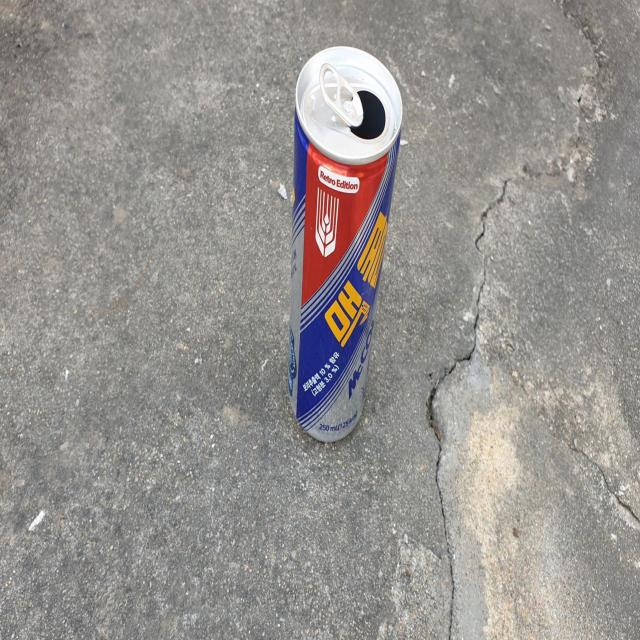can: (289, 45, 403, 441)
